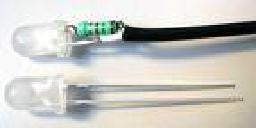LED: (2, 73, 245, 122), (7, 16, 124, 61)
